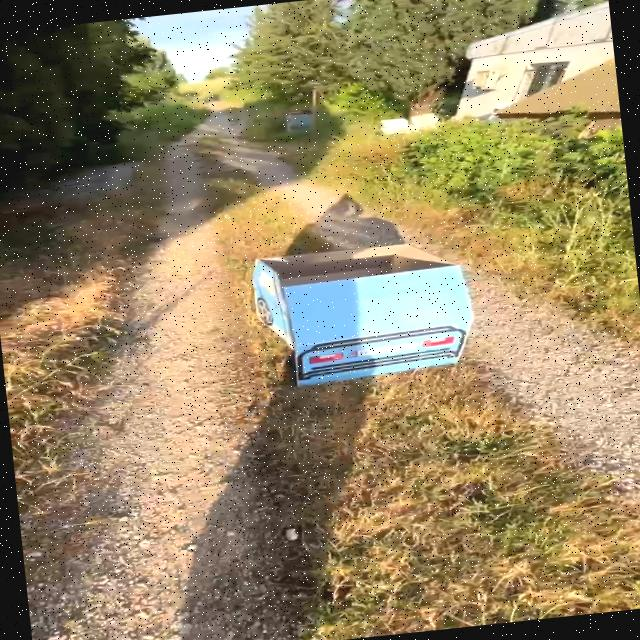blue_car: (201, 213, 503, 439)
